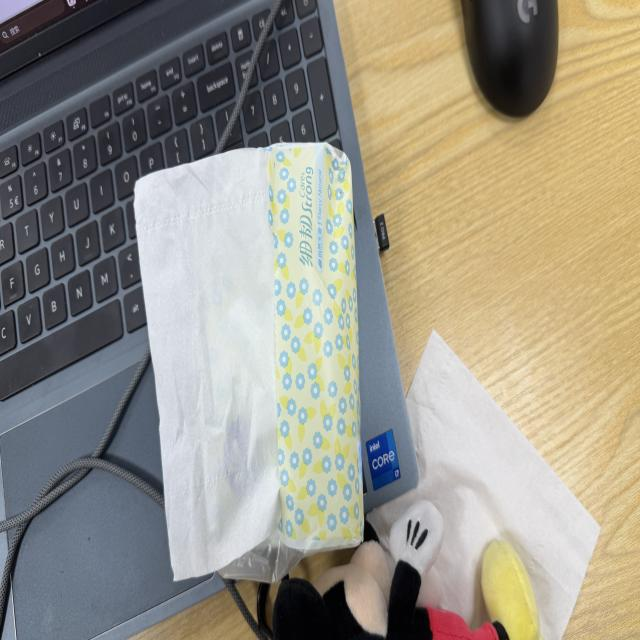mickey: (274, 501, 541, 639)
tissue: (136, 144, 363, 580), (368, 332, 599, 639), (136, 150, 280, 580), (269, 144, 363, 549)
